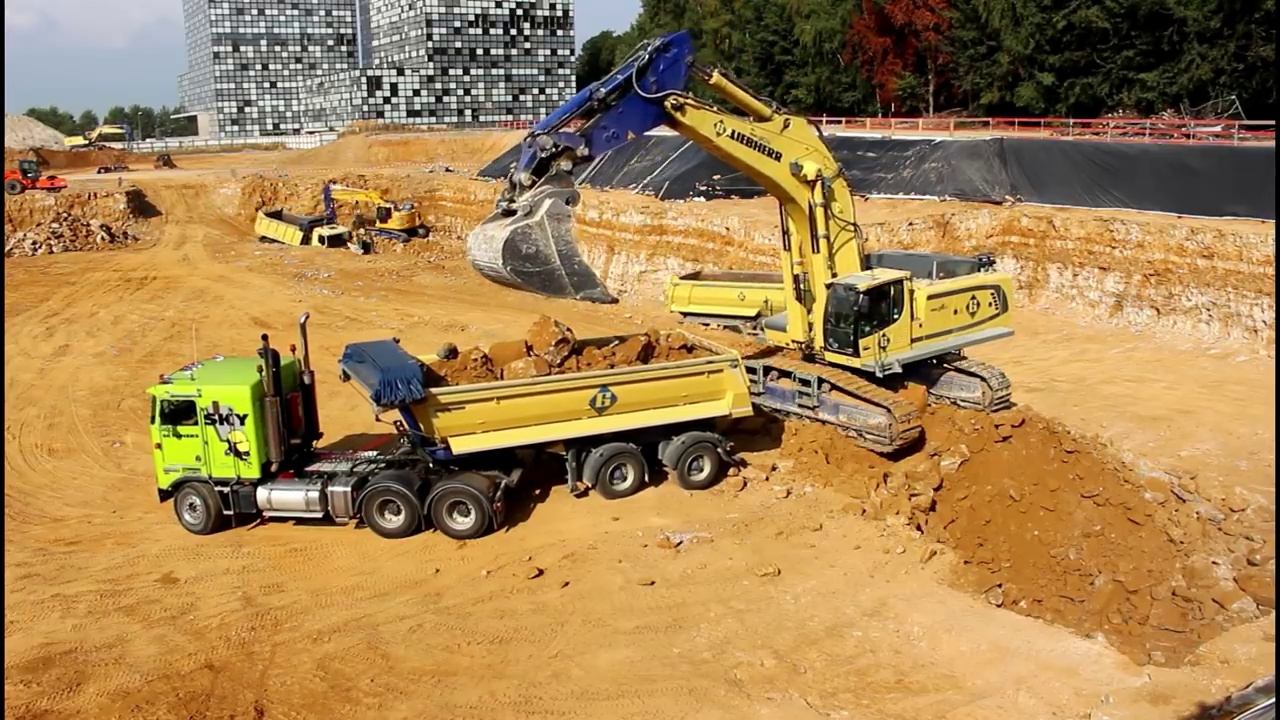compactor: (5, 158, 71, 200)
excavator: (463, 23, 1019, 461), (309, 176, 436, 250), (63, 120, 137, 159)
truck: (142, 307, 763, 545), (663, 265, 947, 381), (254, 205, 353, 271)
